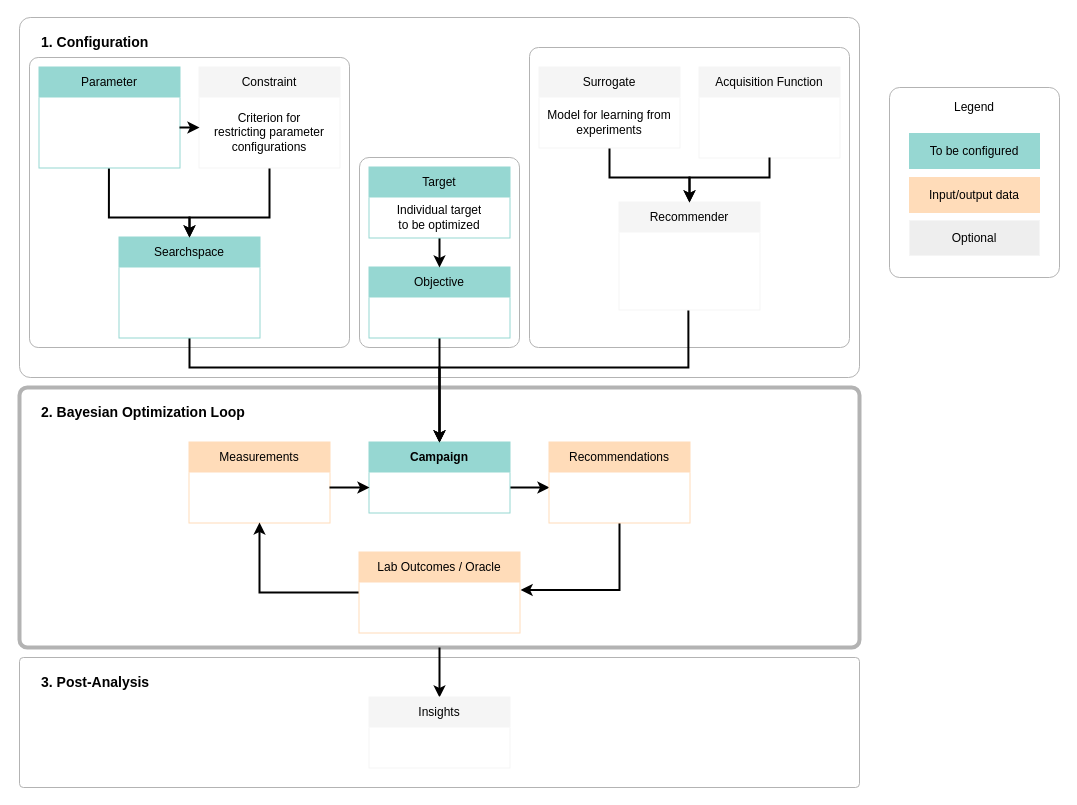
Image size: 1077x805. Some labels were removed from this diagram. The shapes that lost their labels are listed below. From the top down, each one's centre as x and y in pixels, then its label:
point 109,132: Individual component to be controled for each experiment
point 769,127: Criterion for balancing exploration and exploitation
point 689,270: Mechanism for suggesting next experiments
point 189,302: All parameter configurations that can be suggested by the model
point 439,317: Combination of multiple targets
point 259,497: Pairs of recommendations and outcomes
point 439,492: Complete state of the project
point 619,497: Experiments to be conducted next
point 439,607: Outcomes for recommendations
point 439,747: Analysis of experimental results
